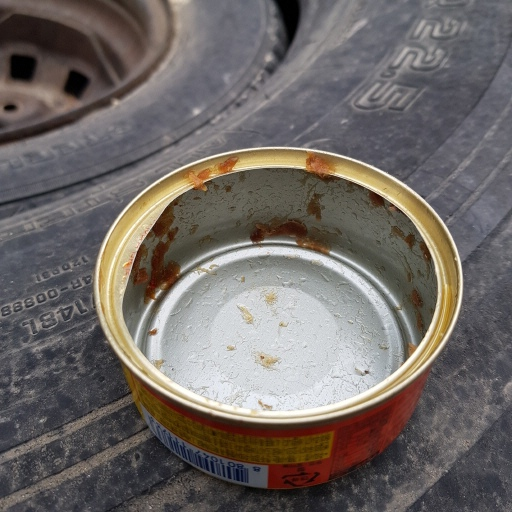Metal_1: (96, 143, 465, 492)
